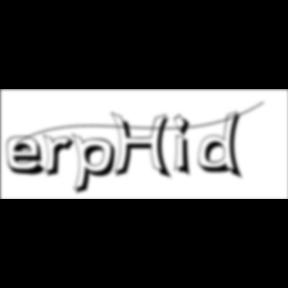H: (110, 112, 176, 182)
d: (198, 110, 248, 182)
e: (7, 135, 53, 178)
i: (174, 112, 198, 180)
p: (72, 132, 122, 198)
r: (43, 134, 81, 180)
